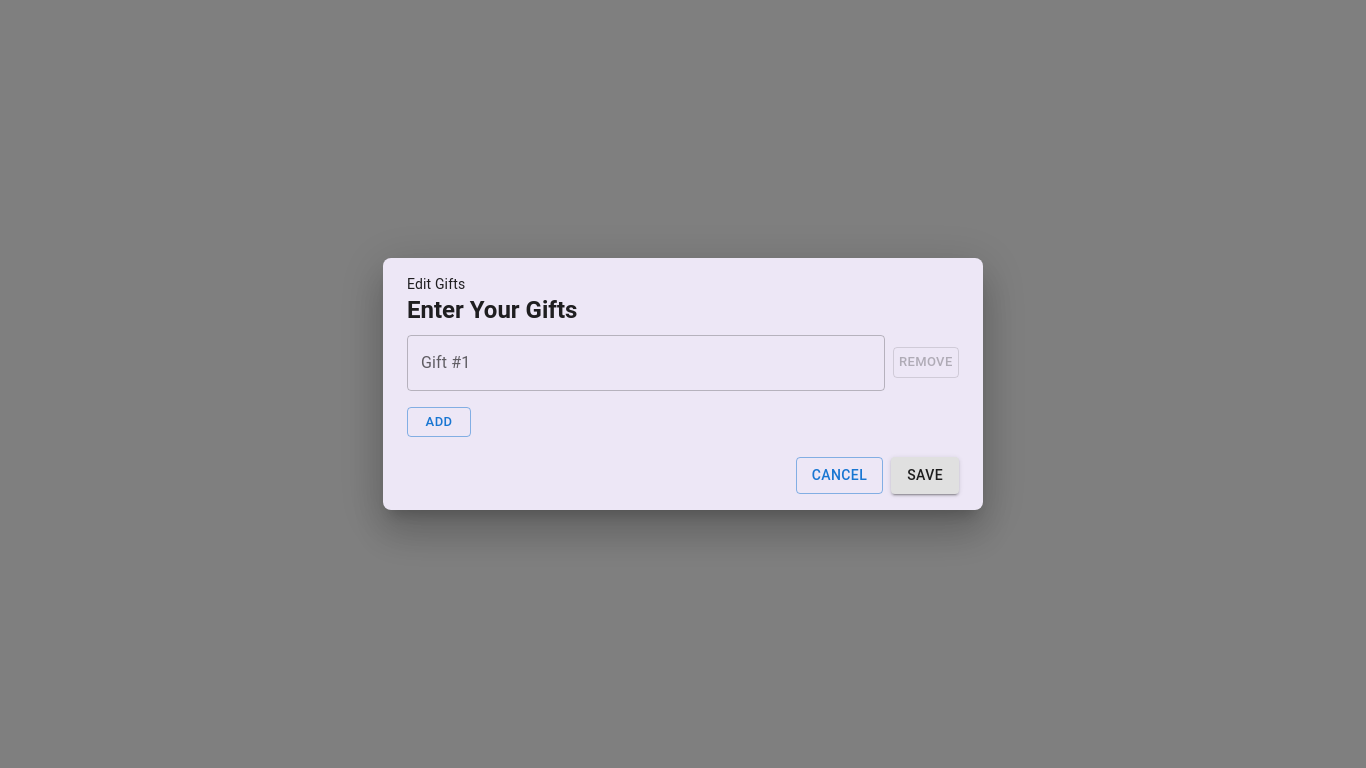
Scenario: EnterGifts › shows an error alert when saveGiftBlob fails
The image size is (1366, 768).
Step 1. Click the button "Save" → (925, 476), box 891,457 -> 959,494
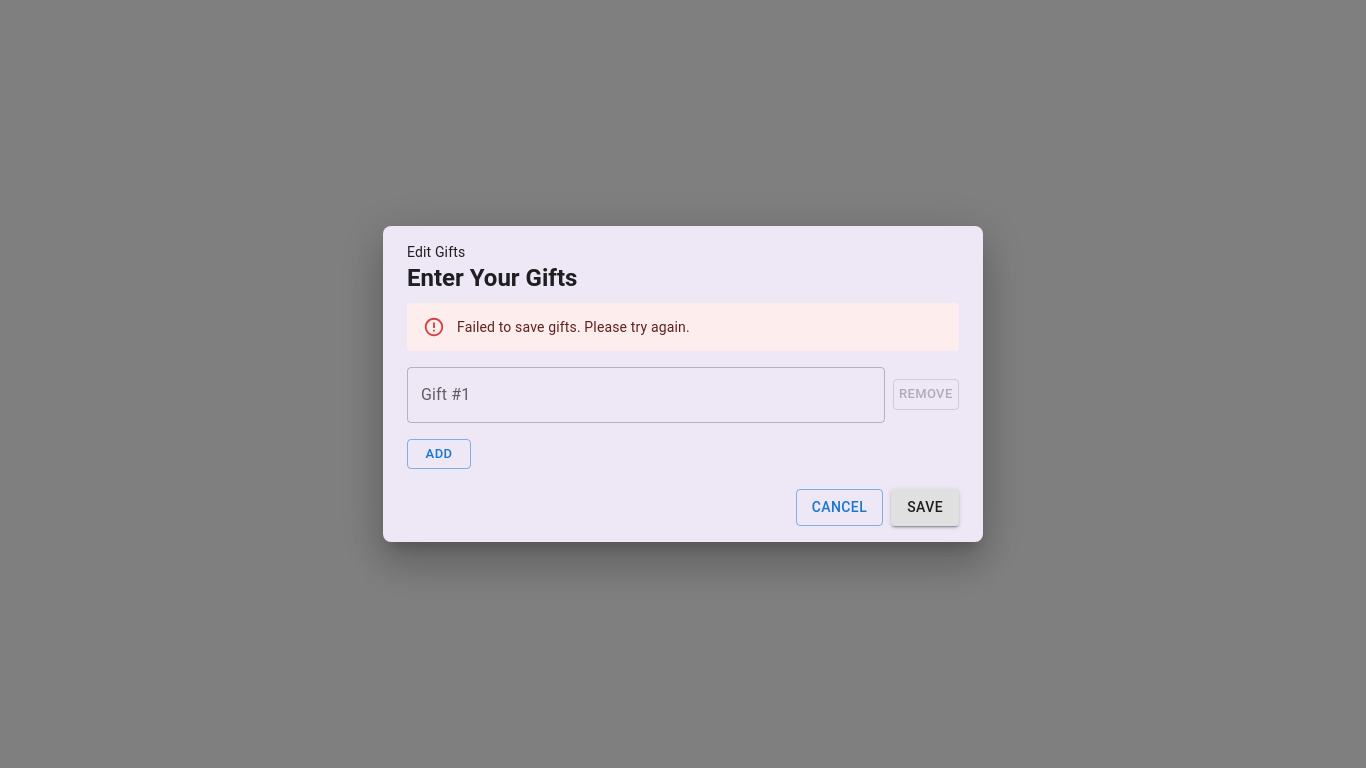
Check: the message "Failed to save gifts. Please try again." is shown, box 407,303 -> 959,351
